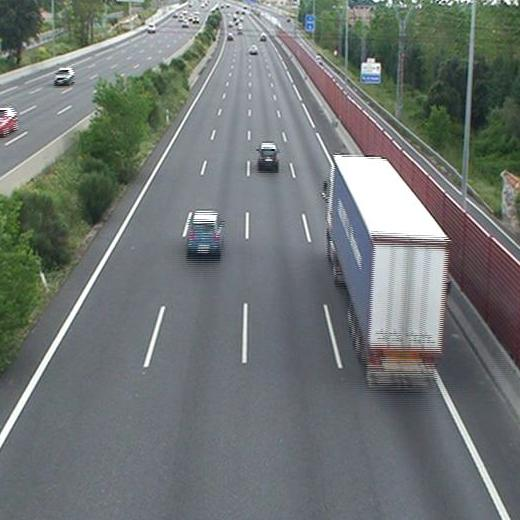car: (188, 212, 221, 252), (258, 143, 279, 166), (248, 45, 258, 55)
truck: (326, 155, 448, 386)
